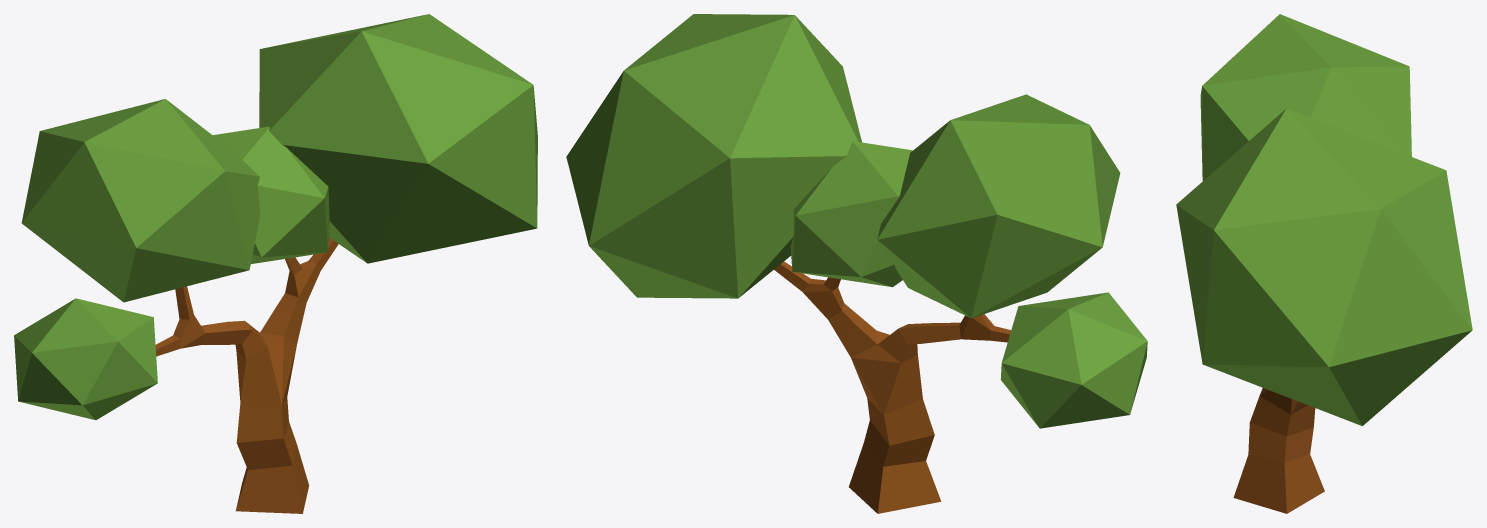
Rendered from Tree_6.fbx.
3 views of the same model, side by side, from view 1: azimuth 30°, elevation 25°; view 2: azimuth 150°, elevation 25°; view 3: azimuth 270°, elevation 25° (orthographic). The views are drawn at different scales.
Visible parts, largest first — view 1: Tree_6; view 2: Tree_6; view 3: Tree_6.
Boxes of the visible parts, box(x1,y1,x2,y2) form: Tree_6: box(14, 14, 537, 513); Tree_6: box(566, 14, 1147, 513); Tree_6: box(1176, 14, 1472, 513).
Bounding box in the file's own units: 2188 × 1733 × 1082.
